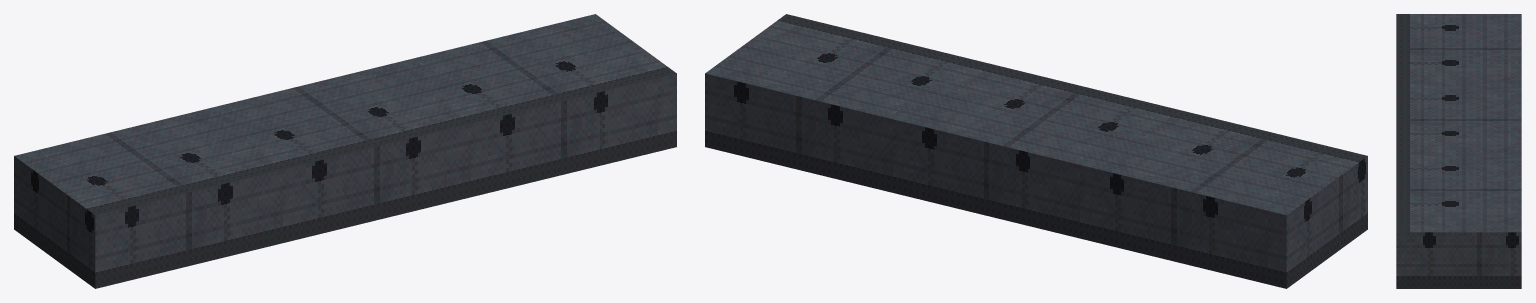
The model's file is mtn_sea_pilecap.glb.
3 renders of one model, left to right at view 1: azimuth 30°, elevation 25°; view 2: azimuth 150°, elevation 25°; view 3: azimuth 270°, elevation 25°, orthographic. The views are drawn at different scales.
Visible parts, largest first — view 1: mtn_sea_pilecap; view 2: mtn_sea_pilecap; view 3: mtn_sea_pilecap.
Part boxes in pixels (x1=…): mtn_sea_pilecap: x1=14, y1=14, x2=676, y2=288; mtn_sea_pilecap: x1=705, y1=14, x2=1367, y2=288; mtn_sea_pilecap: x1=1396, y1=14, x2=1521, y2=288.
Bounding box in the file's own units: 12.4 × 1.5 × 3.
1 material, 1 textured.
